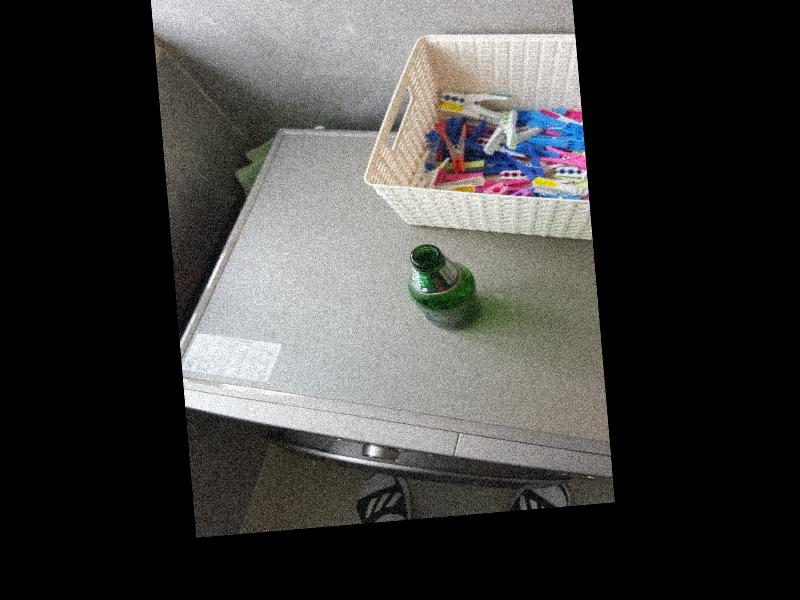Beer: (408, 241, 480, 335)
